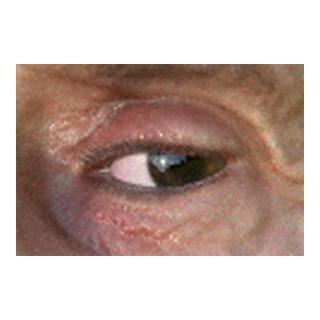pupil: (169, 142, 204, 178)
